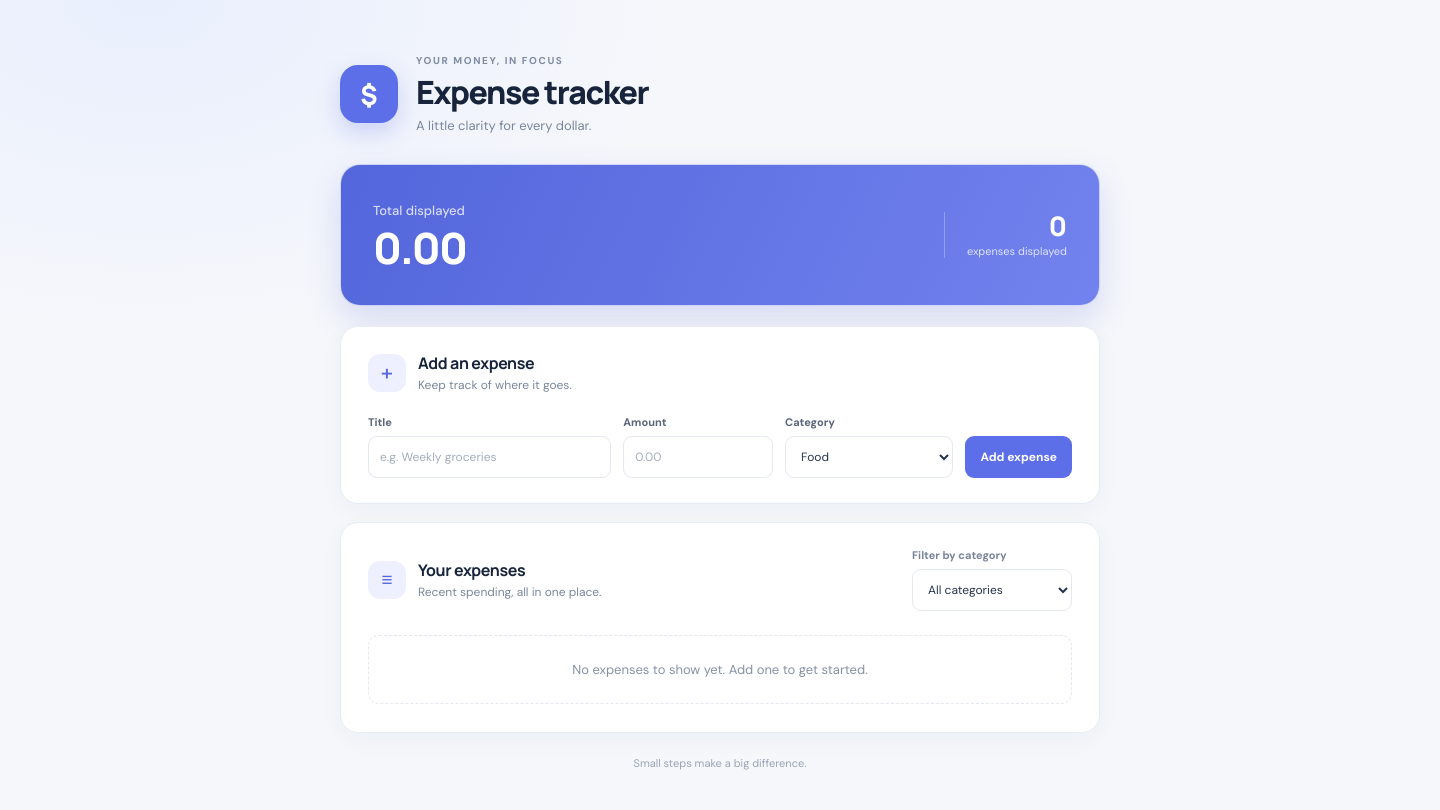
Test: expense tracker › rejects invalid amount 0
Type "Invalid" into the field labelled "Title" at (490, 457), box 368,436 -> 611,478
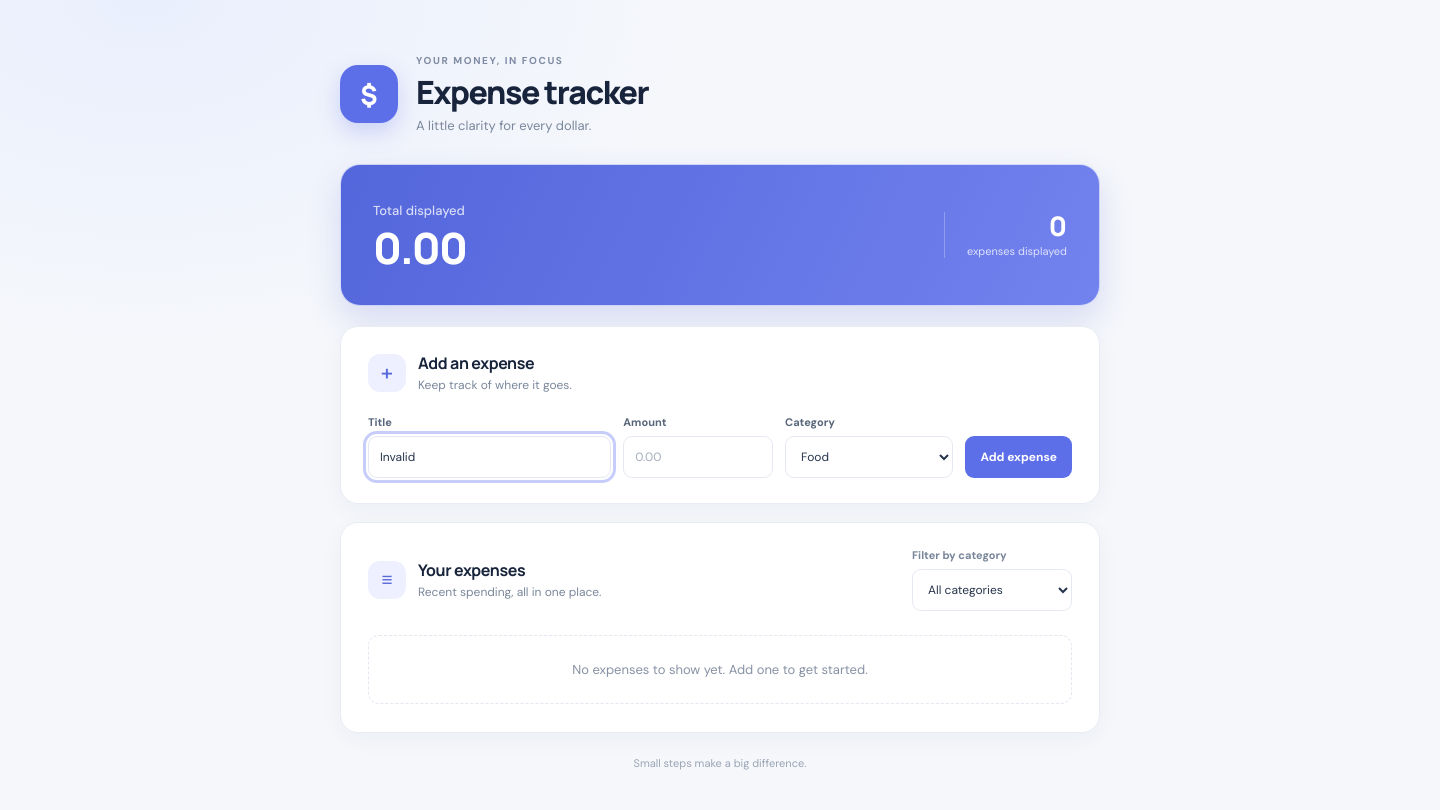
Type "0" into the number field labelled "Amount" at (698, 457), box 623,436 -> 773,478
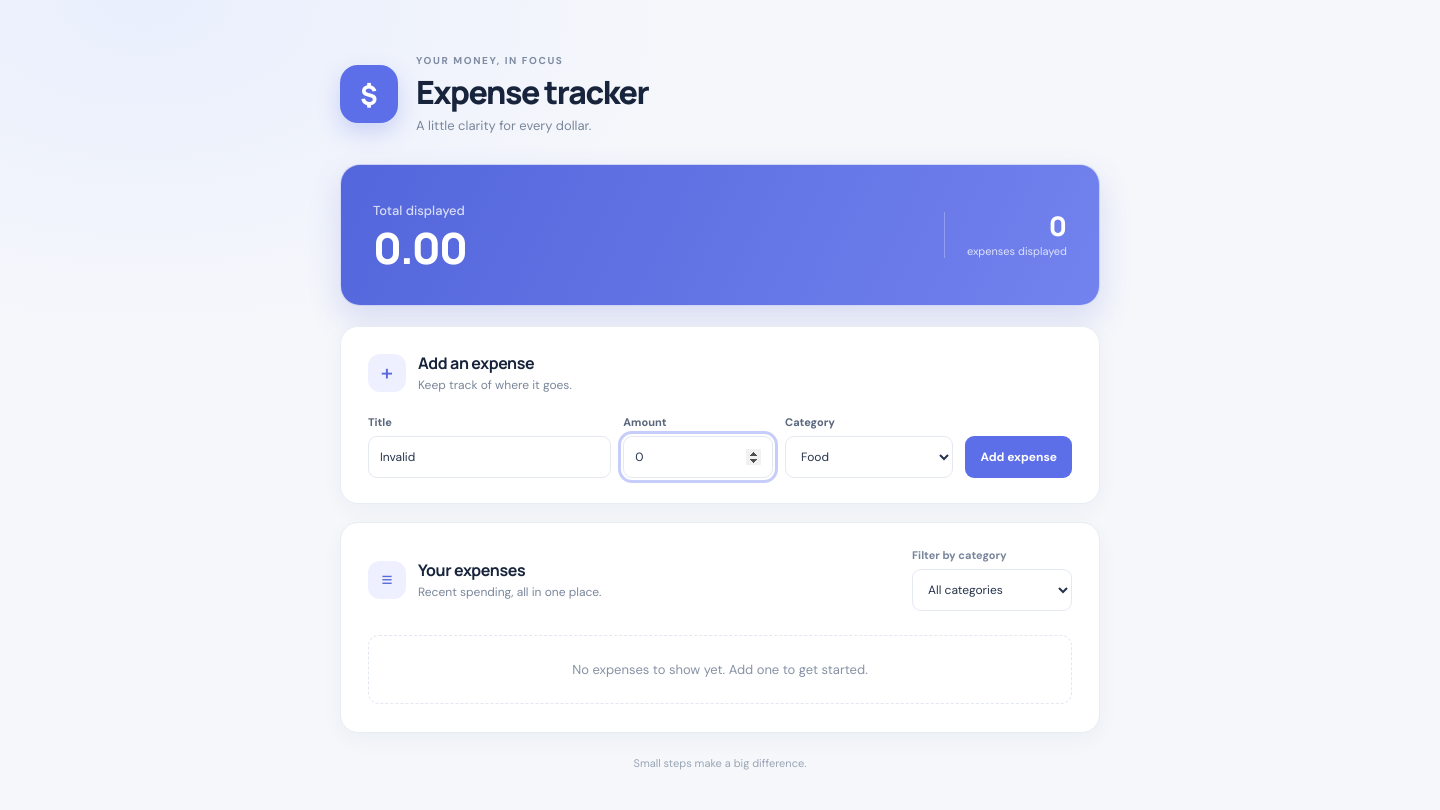
Select "Travel" in the dropdown labelled "Category" at (869, 457), box 785,436 -> 954,478
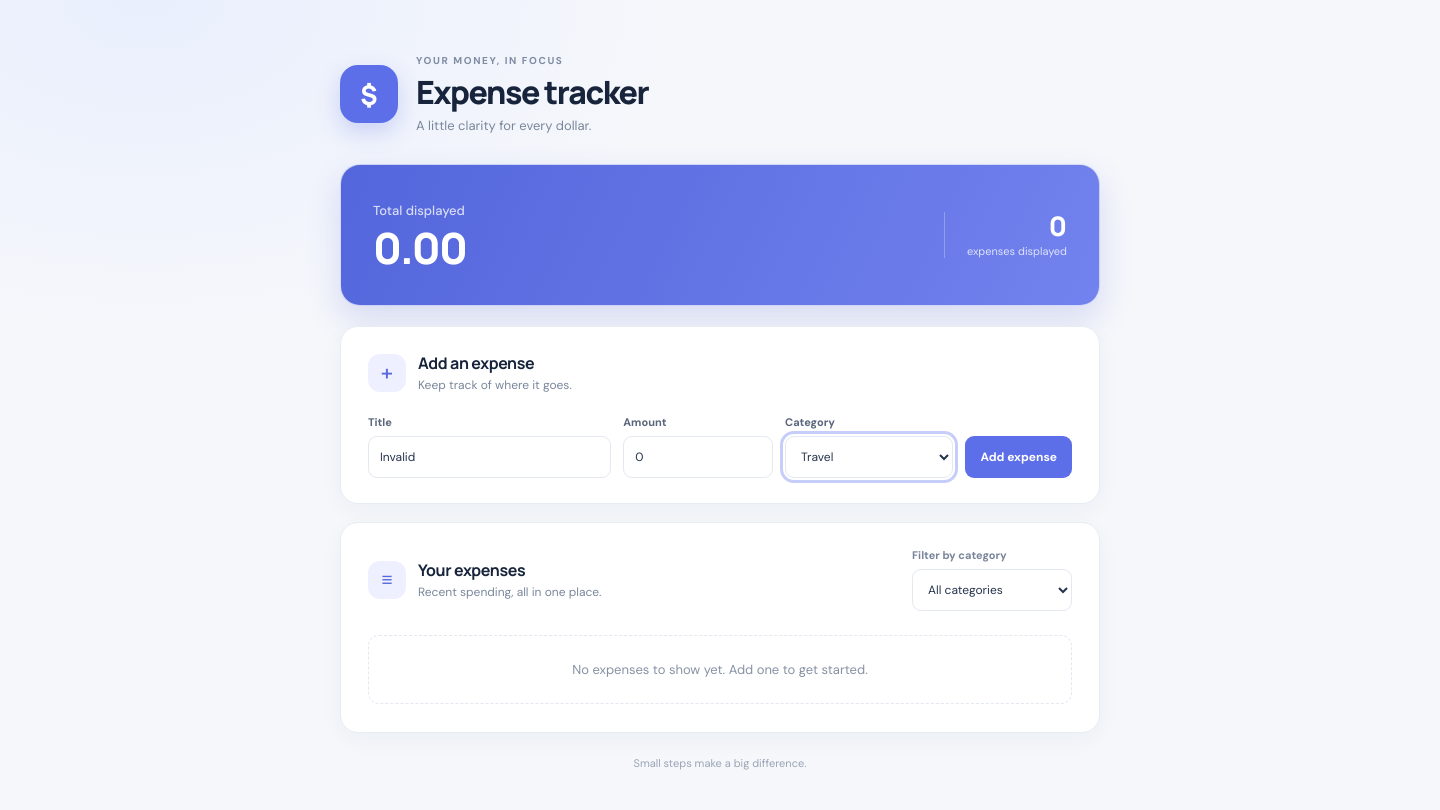
Click the button "Add expense" at (1019, 457), box 966,436 -> 1072,478
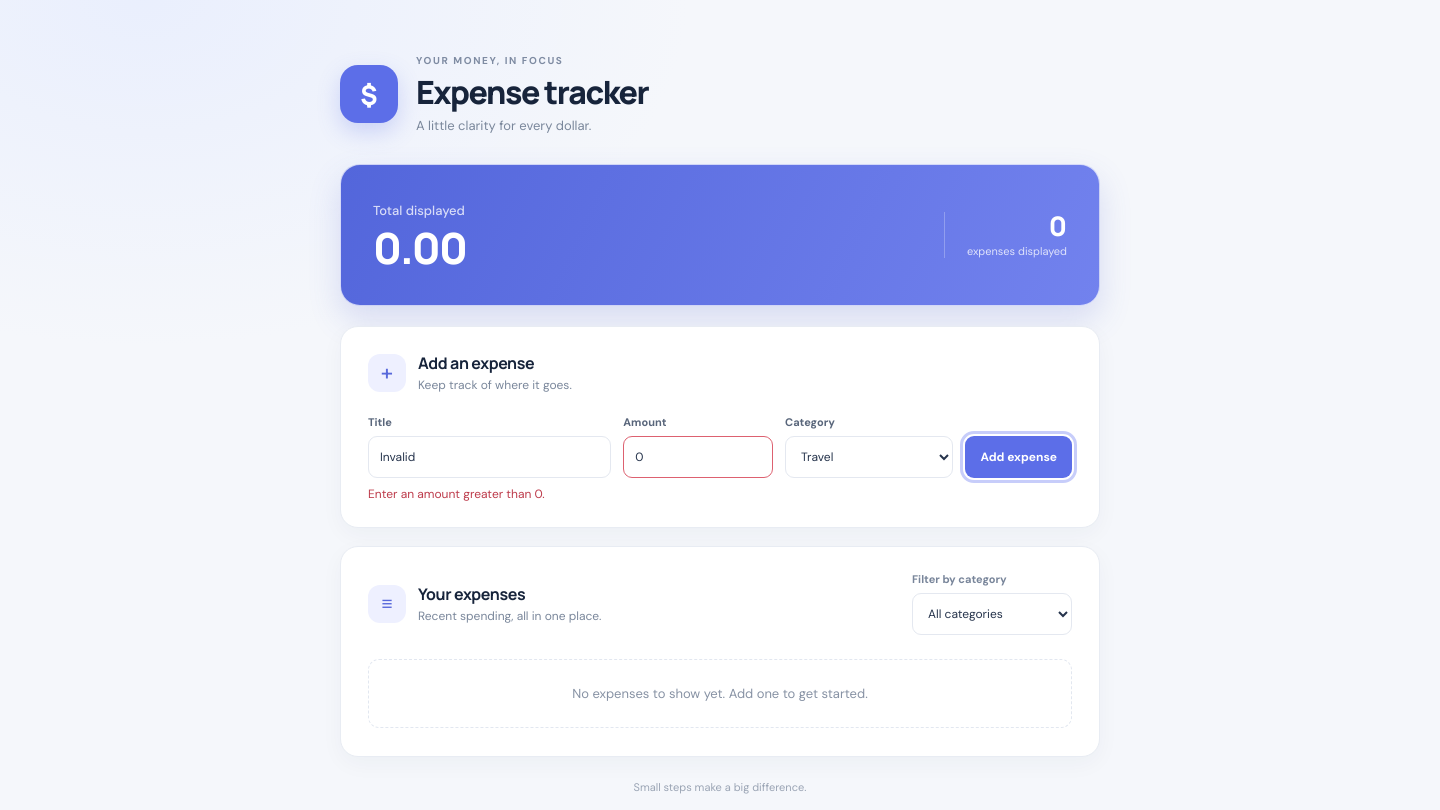
Check: the message reads "Enter an amount greater than 0.", box 368,486 -> 545,502
